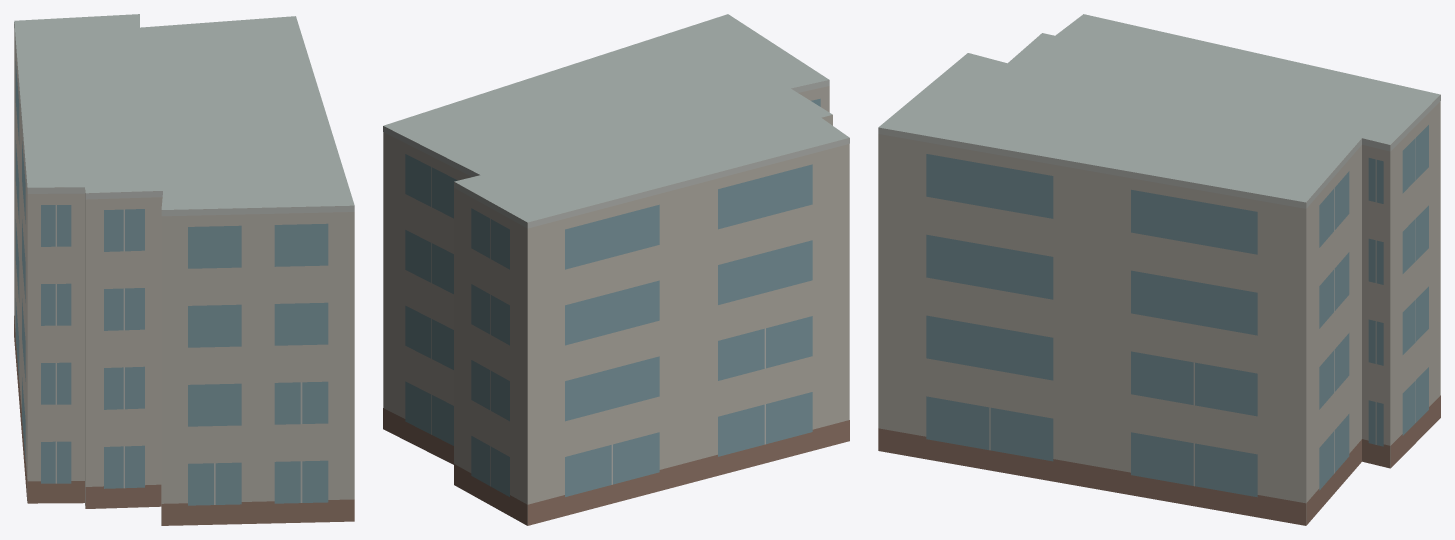
The model's file is survey-upis-32649057.glb.
3 renders of one model, left to right at view 1: azimuth 30°, elevation 25°; view 2: azimuth 150°, elevation 25°; view 3: azimuth 270°, elevation 25°, orthographic. The views are drawn at different scales.
Parts seen in each view (by area): view 1: survey-upis-32649057.tmp; view 2: survey-upis-32649057.tmp; view 3: survey-upis-32649057.tmp.
Boxes of the visible parts, left/top/right/bottom form: survey-upis-32649057.tmp: left=14, top=14, right=354, bottom=525; survey-upis-32649057.tmp: left=383, top=14, right=849, bottom=525; survey-upis-32649057.tmp: left=878, top=14, right=1440, bottom=525.
Size of the model in its own units: 15.26 by 12.2 by 19.24.
